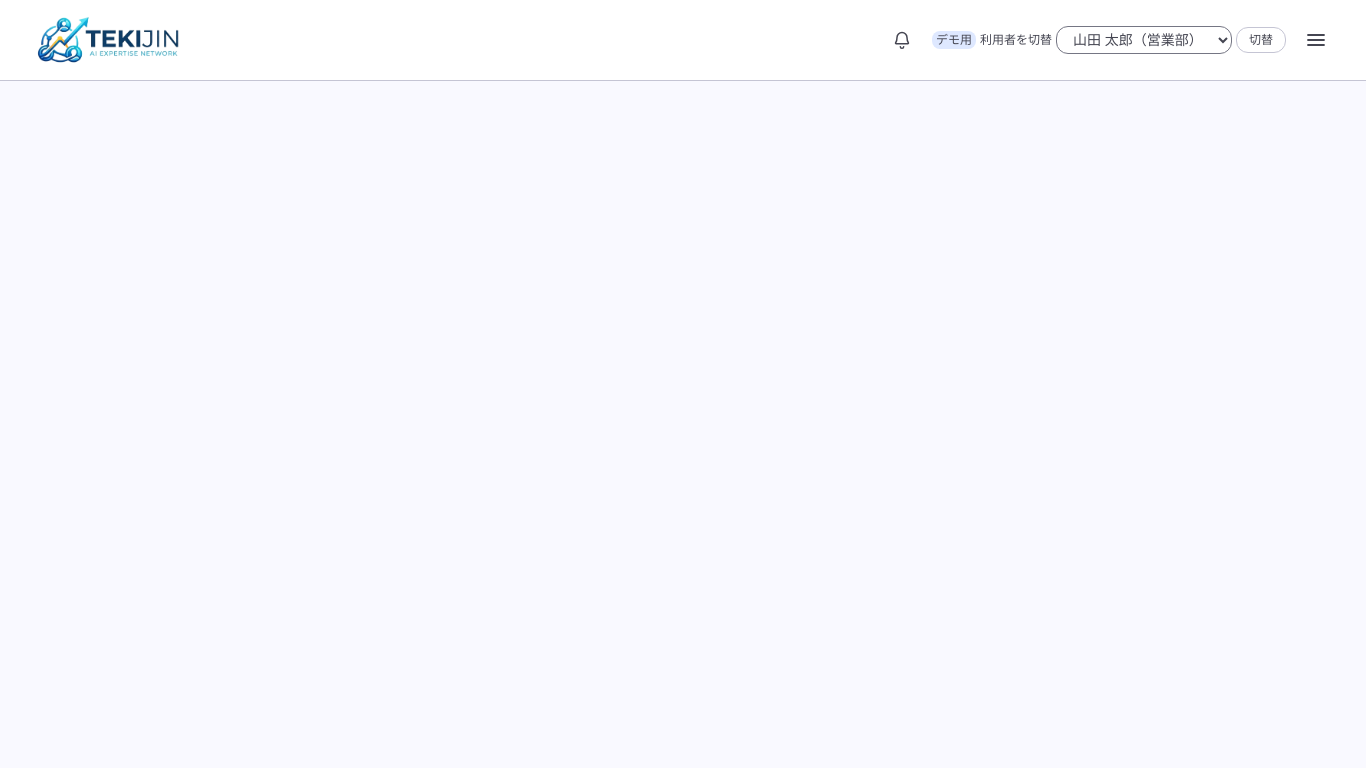
Test case: AppHeader › shows a トップ link back to the hub, right after the name
The width and height of the screenshot is (1366, 768).
Click the button named "メニューを開く" at (1316, 40), box [1298,22,1334,58]
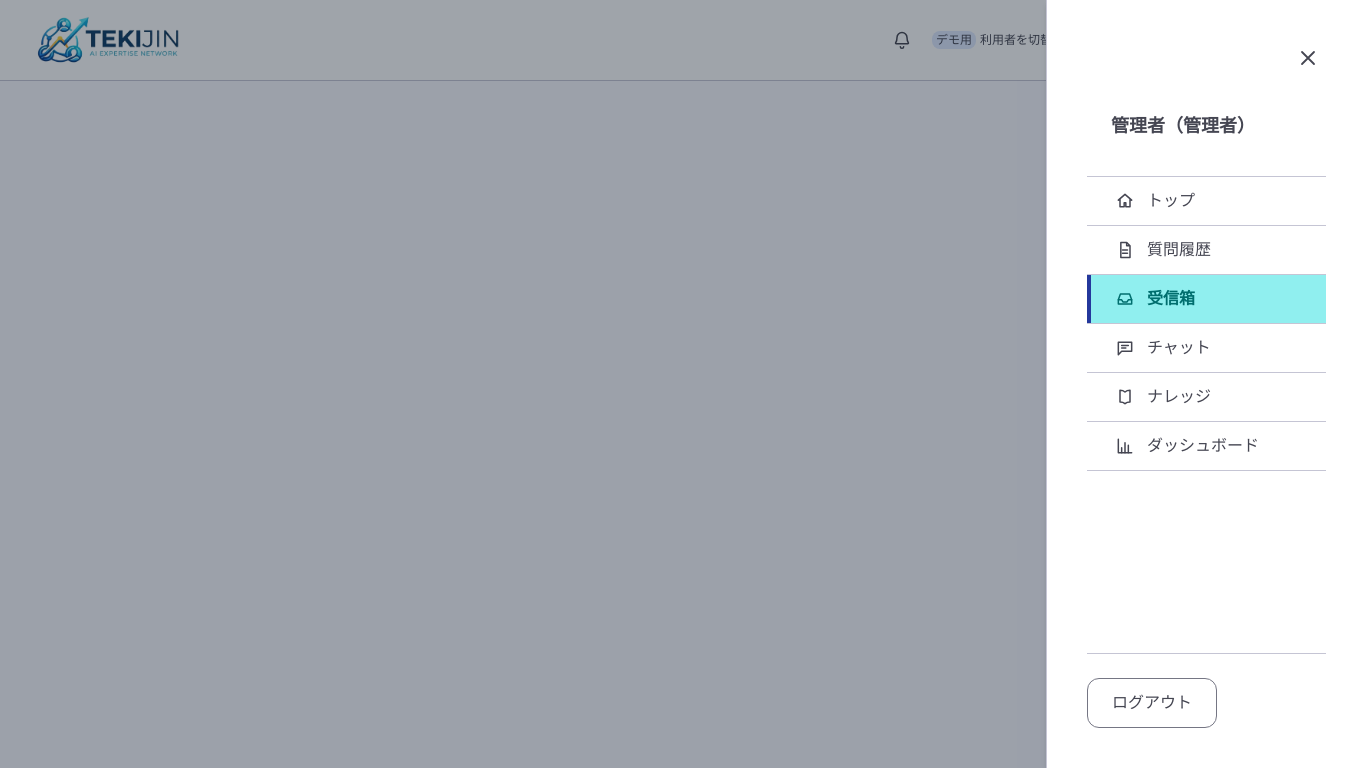
Result: the link "トップ" is shown at [1115,191,1195,211]
